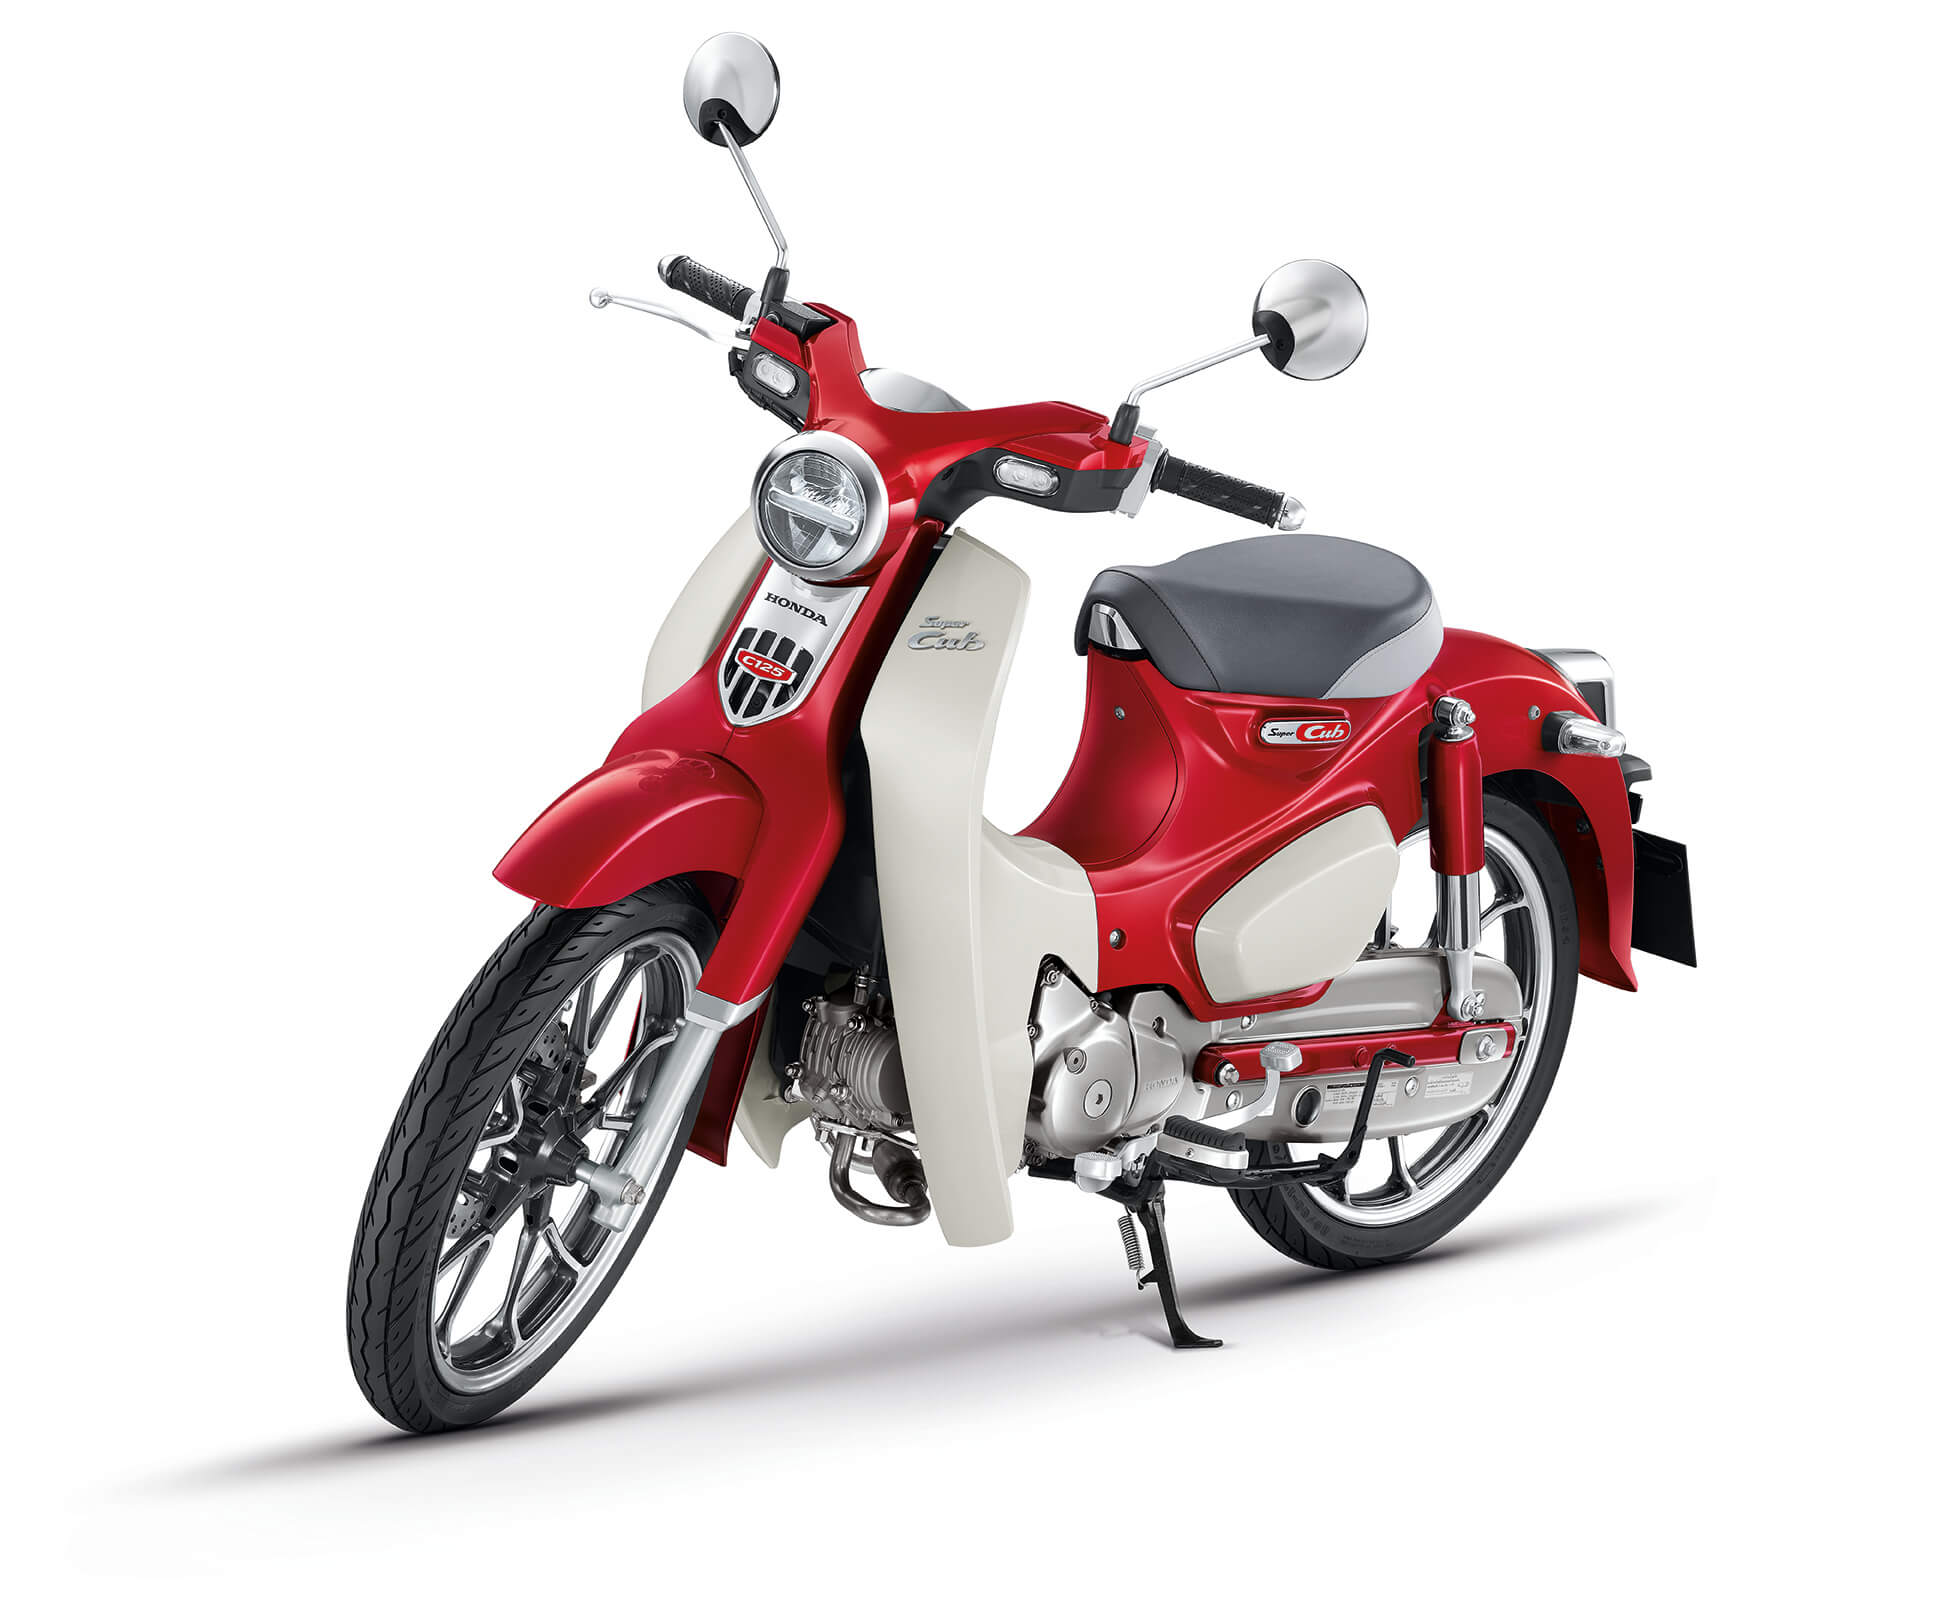motorcycle: (329, 36, 1679, 1432)
